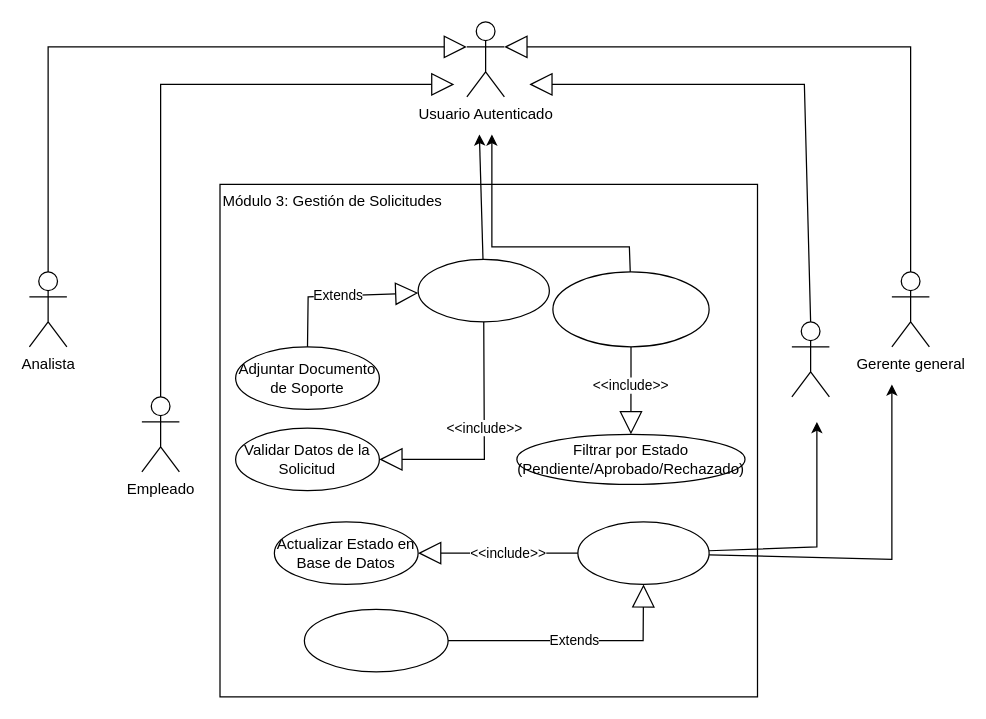
This 986x719 diagram has some shape labels left out. The shapes that lost their labels are listed below. From the top down, each one's centre as x and y in pixels, then its label:
At point (483, 290): "Radicar solicitudes".
At point (630, 309): "Consultar y Seguir Solicitudes".
At point (810, 359): "Supervisor".
At point (643, 552): "Gestionar y Responder Solicitudes".
At point (375, 640): "Notificar Alerta de Costo Financiero".
